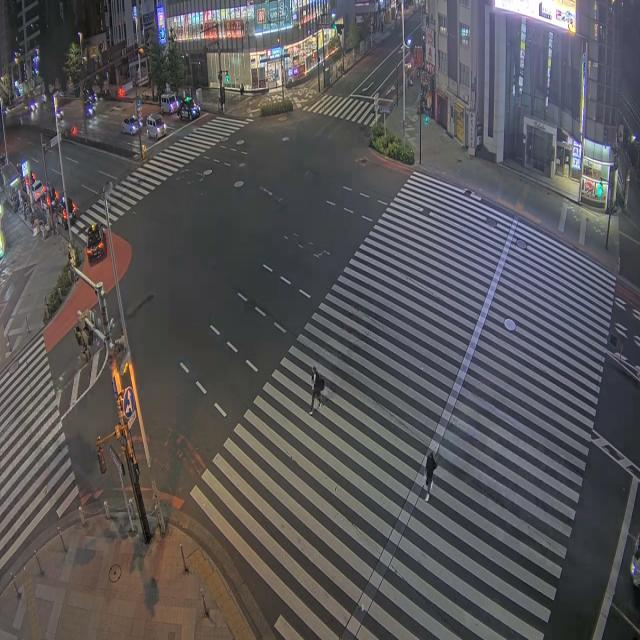car: (86, 224, 105, 261), (57, 196, 77, 226), (178, 96, 200, 119), (122, 116, 142, 135), (33, 181, 46, 201), (56, 204, 67, 227), (83, 88, 96, 103), (84, 101, 95, 117), (53, 106, 63, 119)
van: (146, 114, 166, 139), (160, 93, 178, 114)
